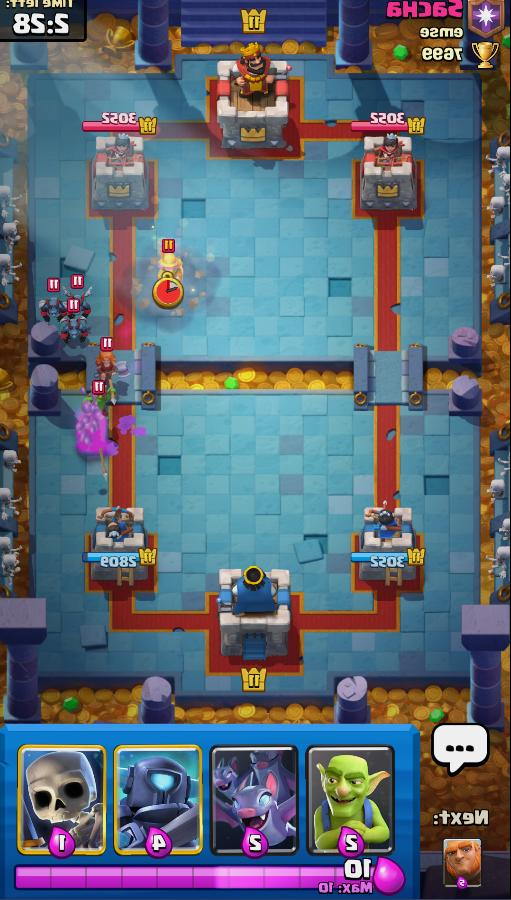gargouille: (63, 292, 93, 315), (61, 316, 86, 342), (40, 298, 63, 320)
gobelin_lances: (83, 390, 114, 416)
valkyrie: (154, 252, 185, 294), (92, 351, 122, 382)
